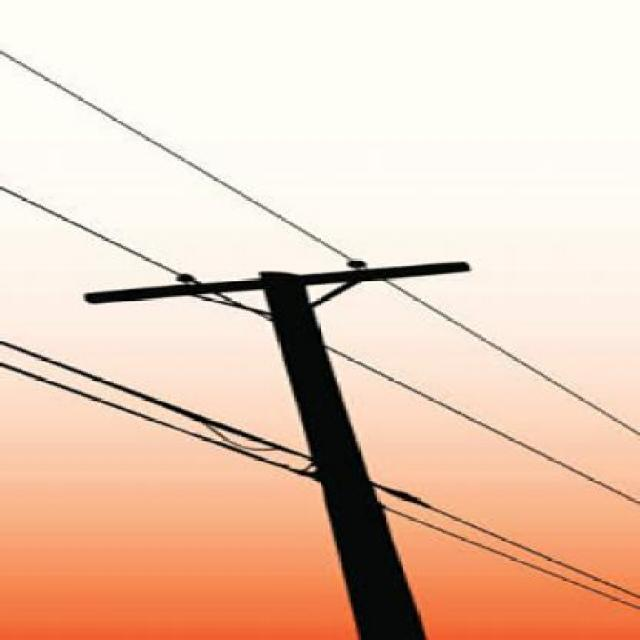pole: (66, 247, 540, 640)
